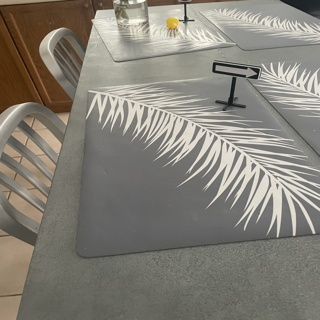sign_oneway_right: (208, 68, 260, 77)
